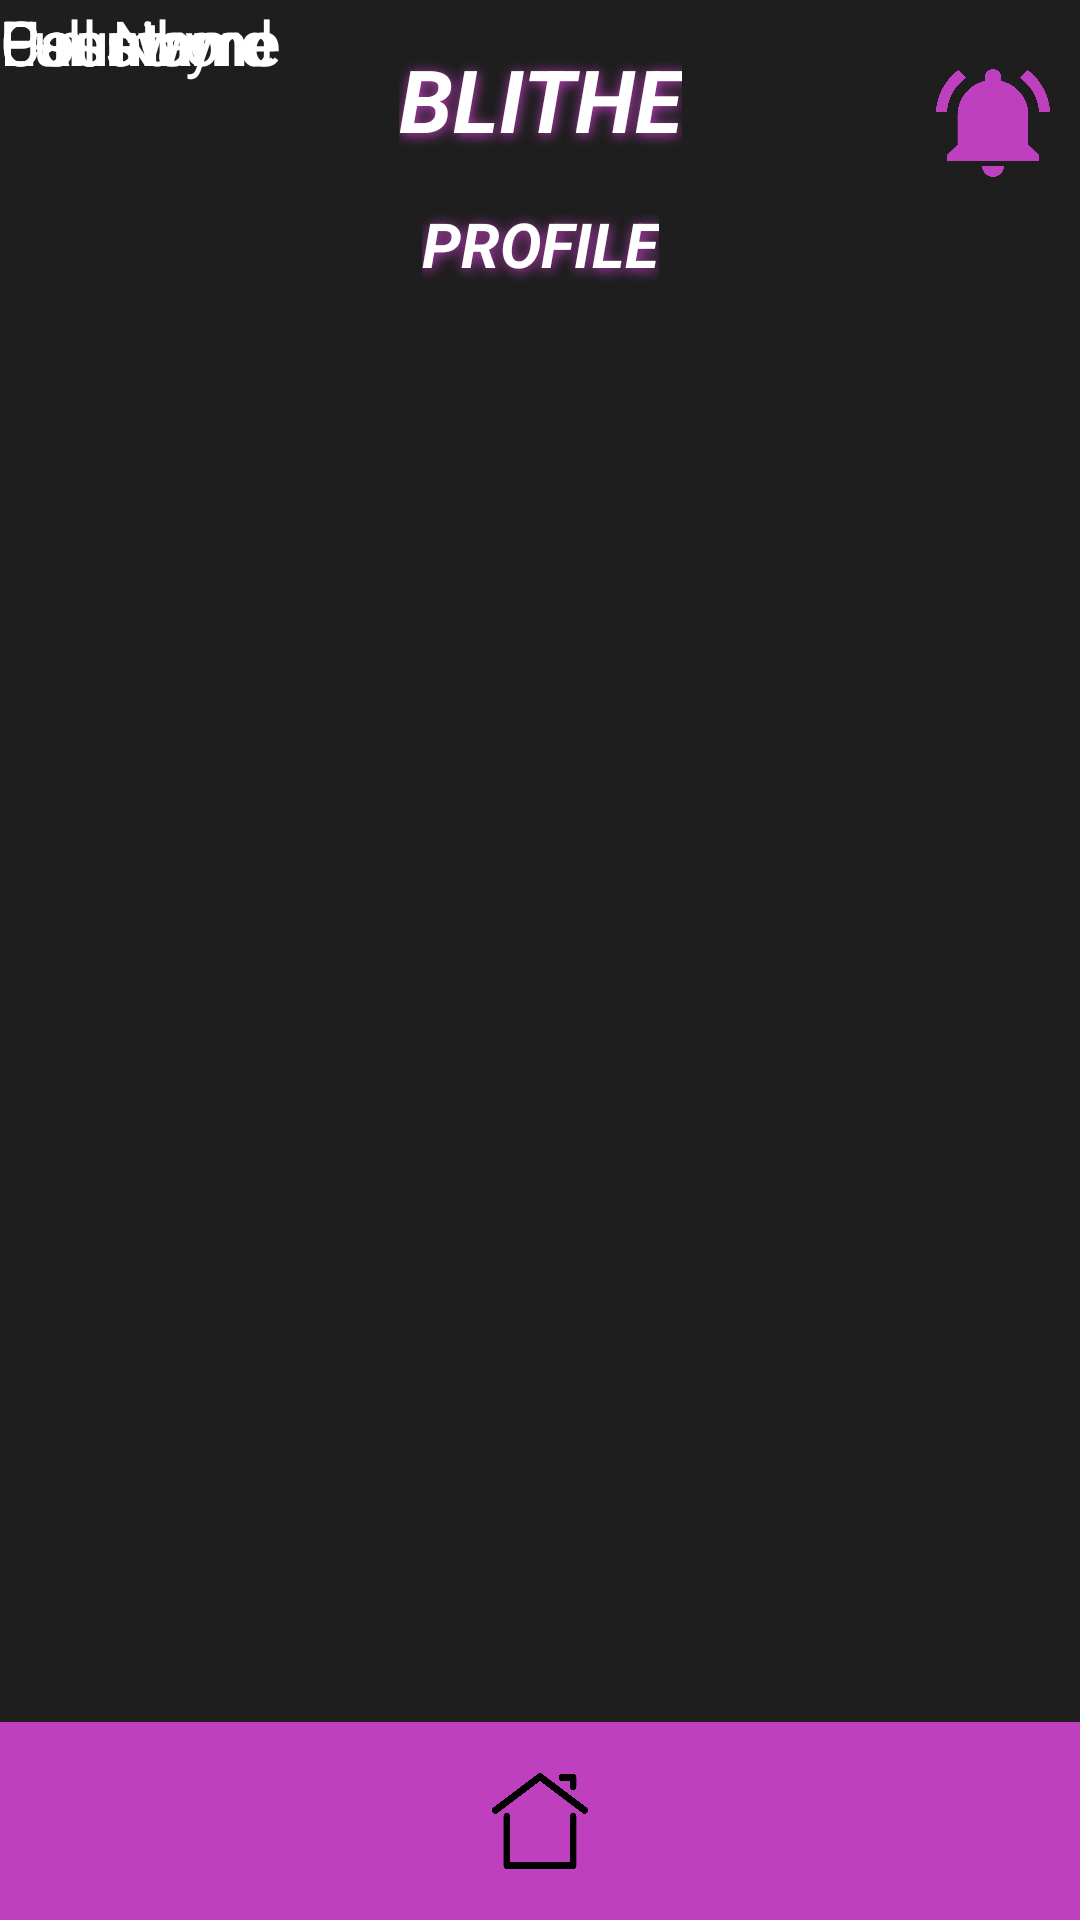

Named icons in this screenshot (1080px x 1920px) and their bounding boxes, region(x1, y1, x2, y2):
home: region(492, 1773, 588, 1869)
